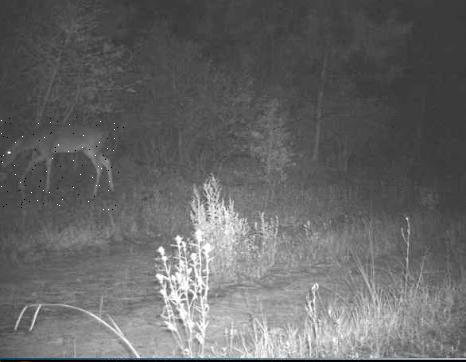Deer: (0, 117, 124, 211)
